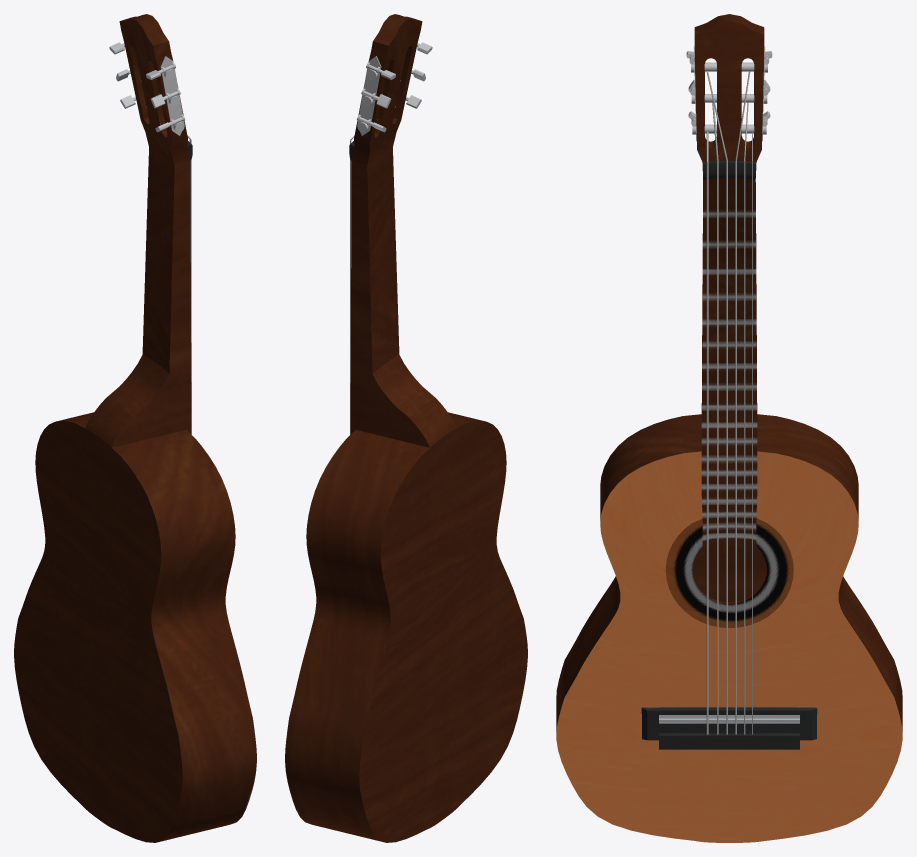
Rendered from acoustic-guitar-e1f5d7.glb.
The picture shows the model from 3 angles, left to right: view 1: azimuth 30°, elevation 25°; view 2: azimuth 150°, elevation 25°; view 3: azimuth 270°, elevation 25°; orthographic projection. The views are drawn at different scales.
Visible parts, largest first — view 1: PropMesh; view 2: PropMesh; view 3: PropMesh.
Part boxes in pixels (x1,y1,x2,y2): PropMesh: [14, 14, 256, 842]; PropMesh: [285, 14, 527, 842]; PropMesh: [556, 14, 902, 842].
Bounding box in the file's own units: 0.1118 × 1 × 0.3868.
Materials: 1 (1 with a texture image).
